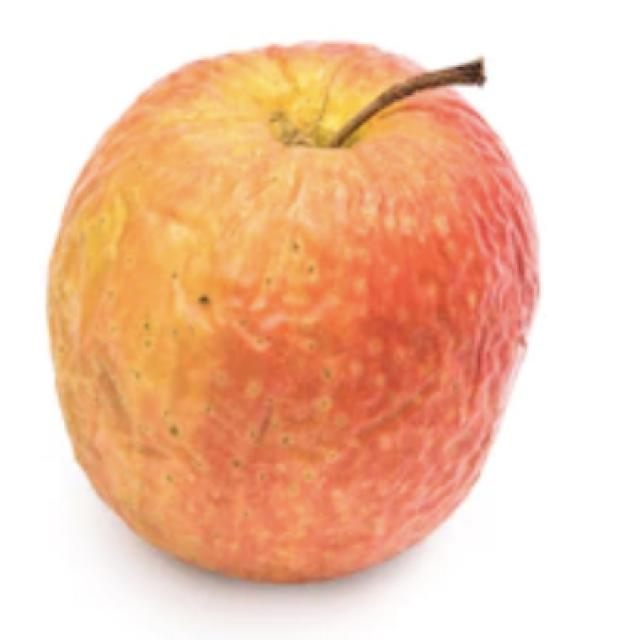rotten_apple: (50, 41, 541, 580)
